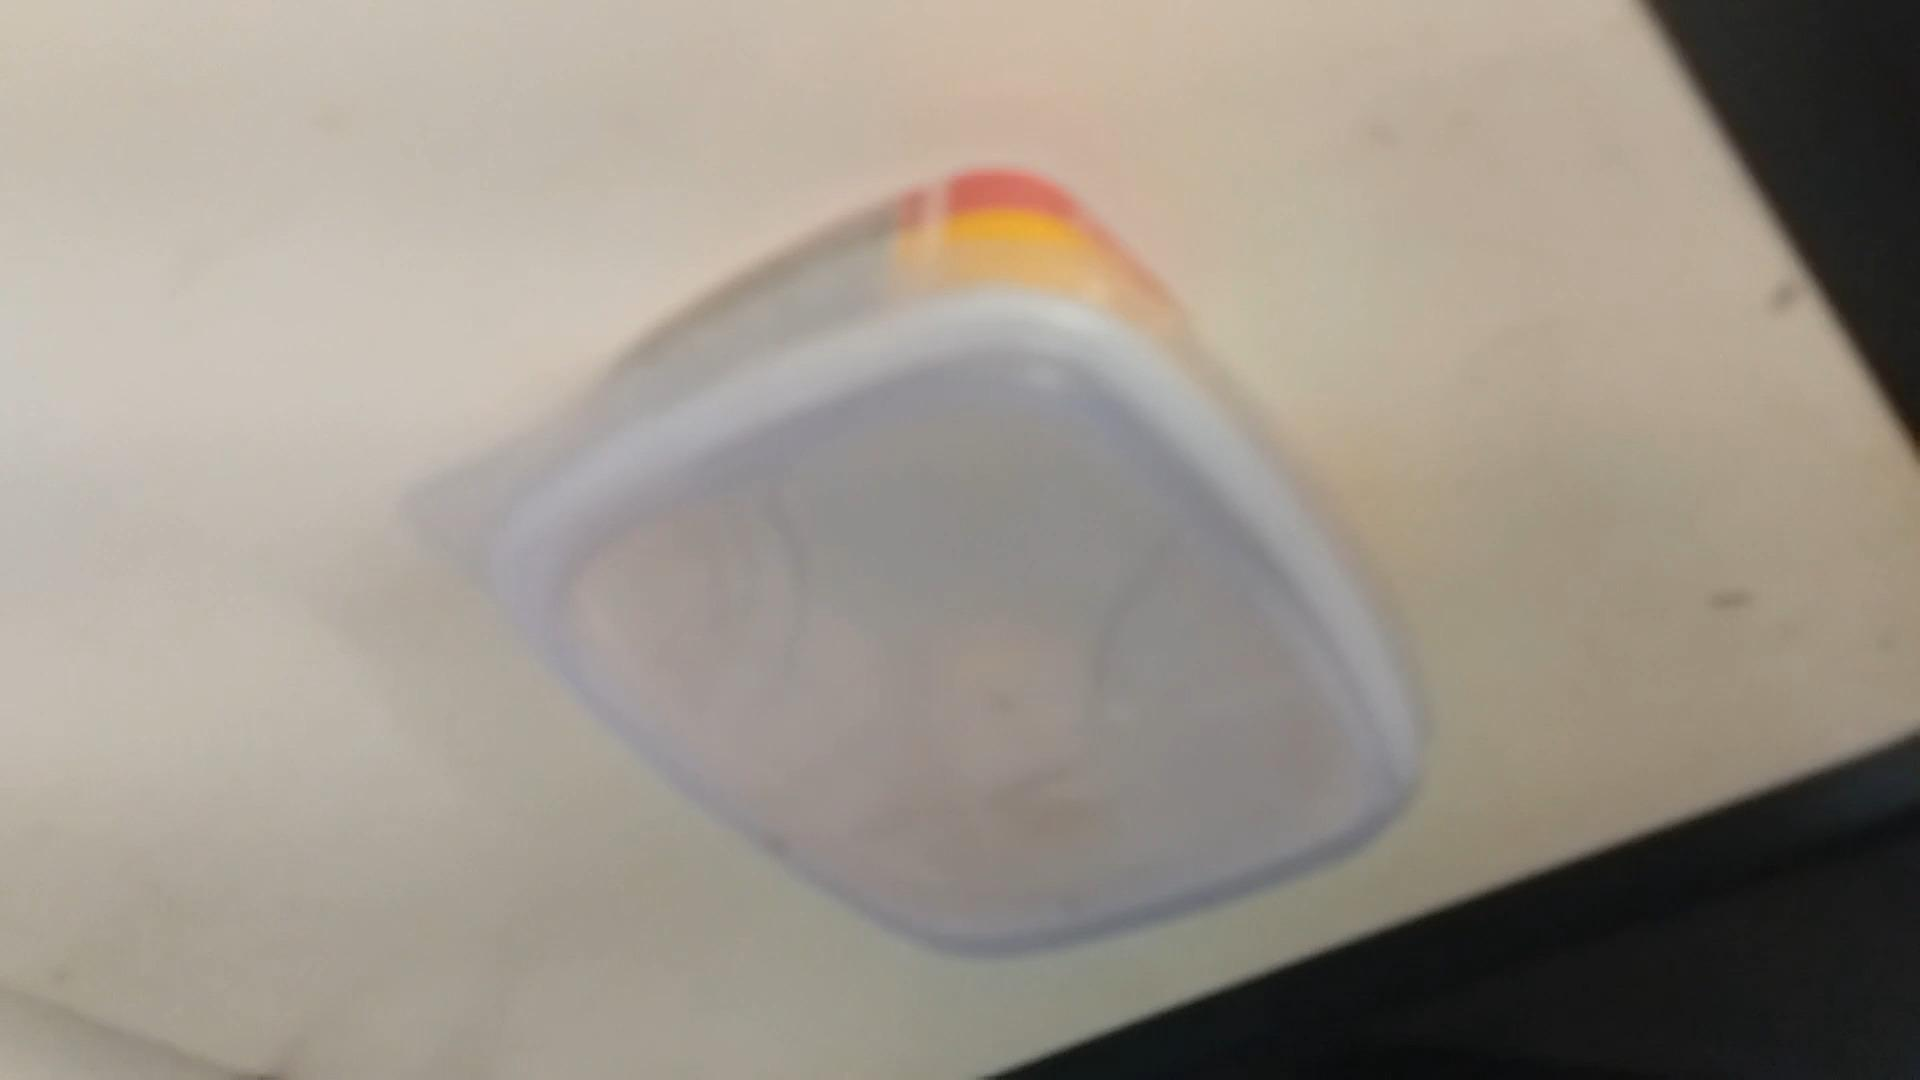butter: (447, 189, 1418, 963)
